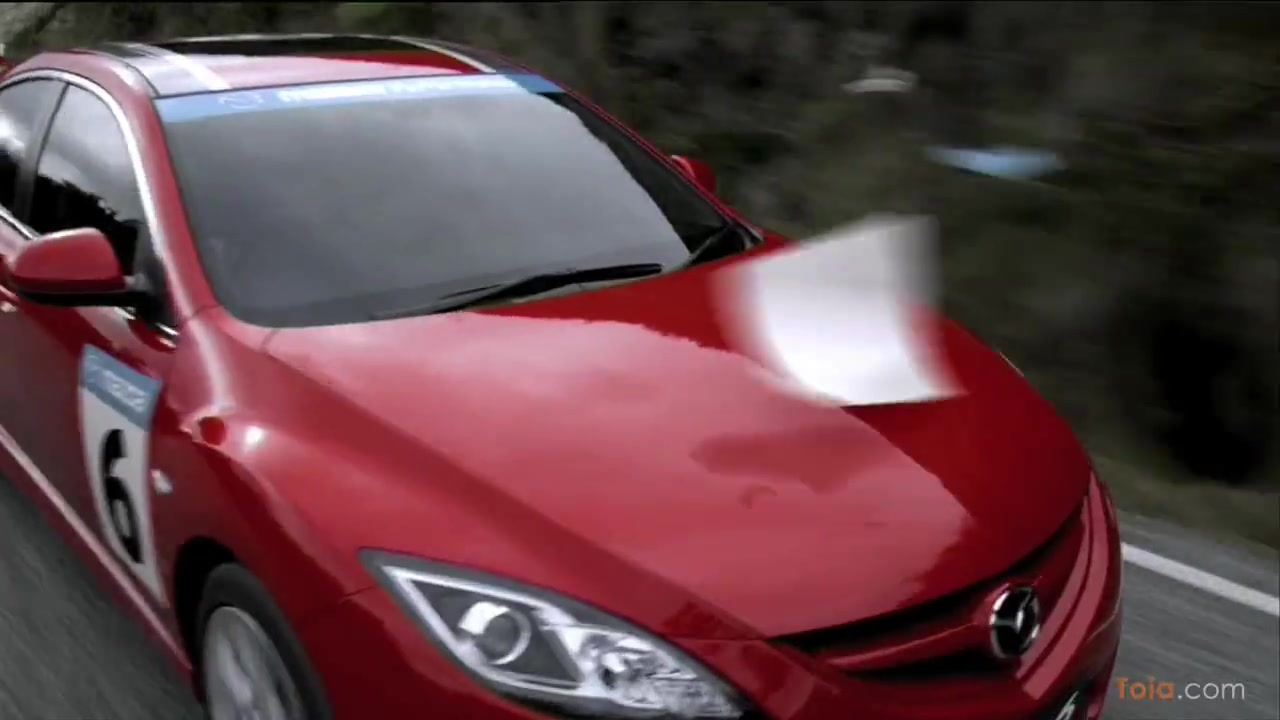car: (3, 32, 1127, 720)
